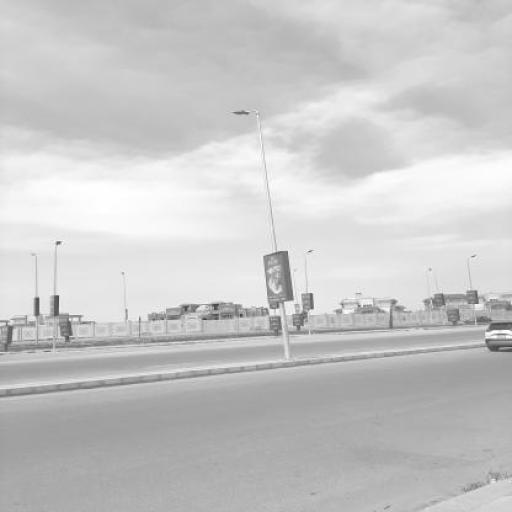street light: (233, 108, 292, 361), (52, 241, 62, 351), (427, 267, 446, 324), (466, 255, 480, 325), (304, 250, 314, 334), (31, 254, 40, 344), (293, 268, 302, 327), (120, 272, 128, 335), (426, 270, 434, 323)
